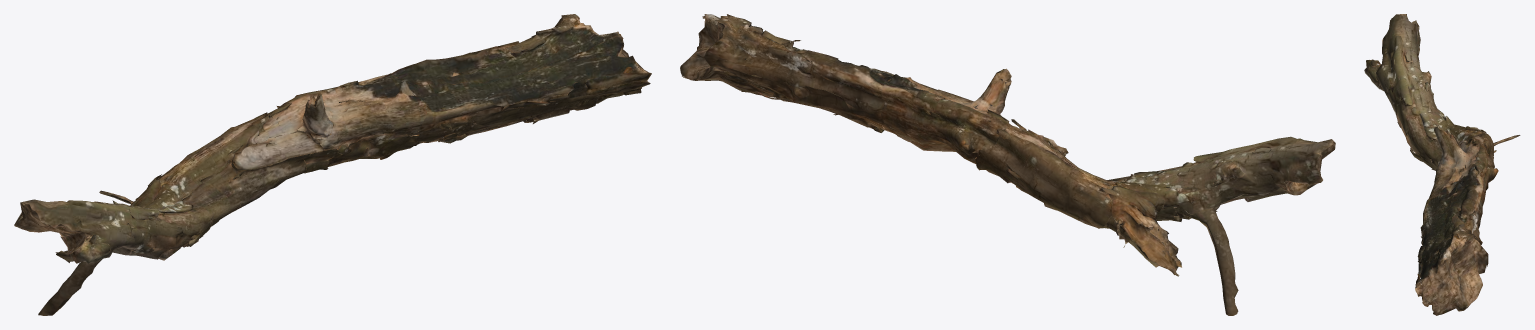
Rendered from dead_tree_trunk_02.glb.
3 views of the same model, side by side, from view 1: azimuth 30°, elevation 25°; view 2: azimuth 150°, elevation 25°; view 3: azimuth 270°, elevation 25° (orthographic). The views are drawn at different scales.
Parts seen in each view (by area): view 1: dead_tree_trunk_02; view 2: dead_tree_trunk_02; view 3: dead_tree_trunk_02.
Boxes of the visible parts, x1,y1,x2,y2 form: dead_tree_trunk_02: [14, 14, 651, 315]; dead_tree_trunk_02: [680, 14, 1335, 315]; dead_tree_trunk_02: [1364, 14, 1520, 315].
Size of the model in its own units: 4.05 by 1.06 by 1.05.
1 material, 1 textured.
